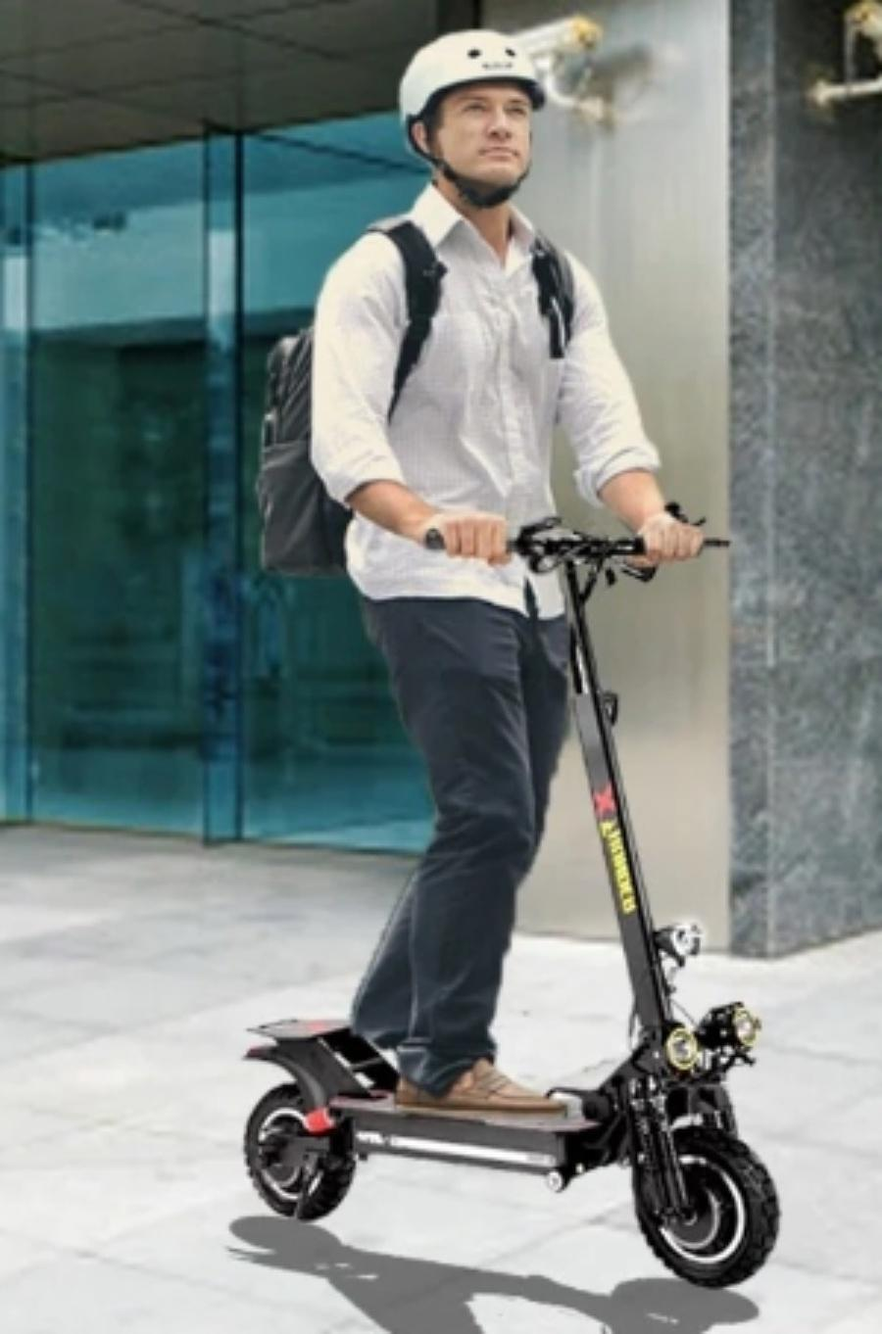helmet: (363, 15, 566, 230)
human: (309, 28, 680, 1102)
kickboard: (237, 1083, 788, 1290)
